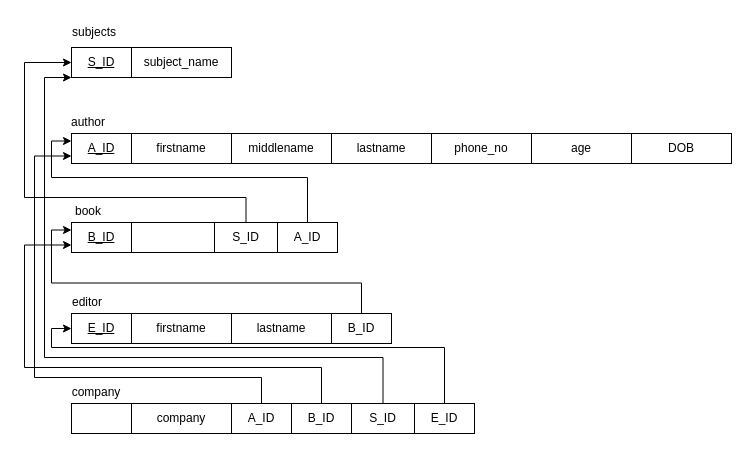
Some shapes in this 749 by 451 pixel diagram are drawn without their labels. The shapes that lost their labels are listed below. From the top down, each one's box as (x1, y1, x2, y2) in pixels, then its label:
(130, 222, 214, 252): title
(70, 402, 132, 434): C_ID
